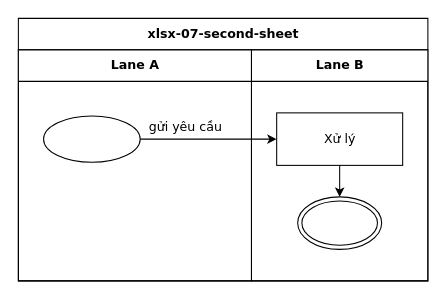
Some shapes in this 446 by 299 pixel diagram are drawn without their labels. The centre of each missing label's shape, as x and y in pixels:
Bắt đầu: pixel 91 138
Xong: pixel 339 222
